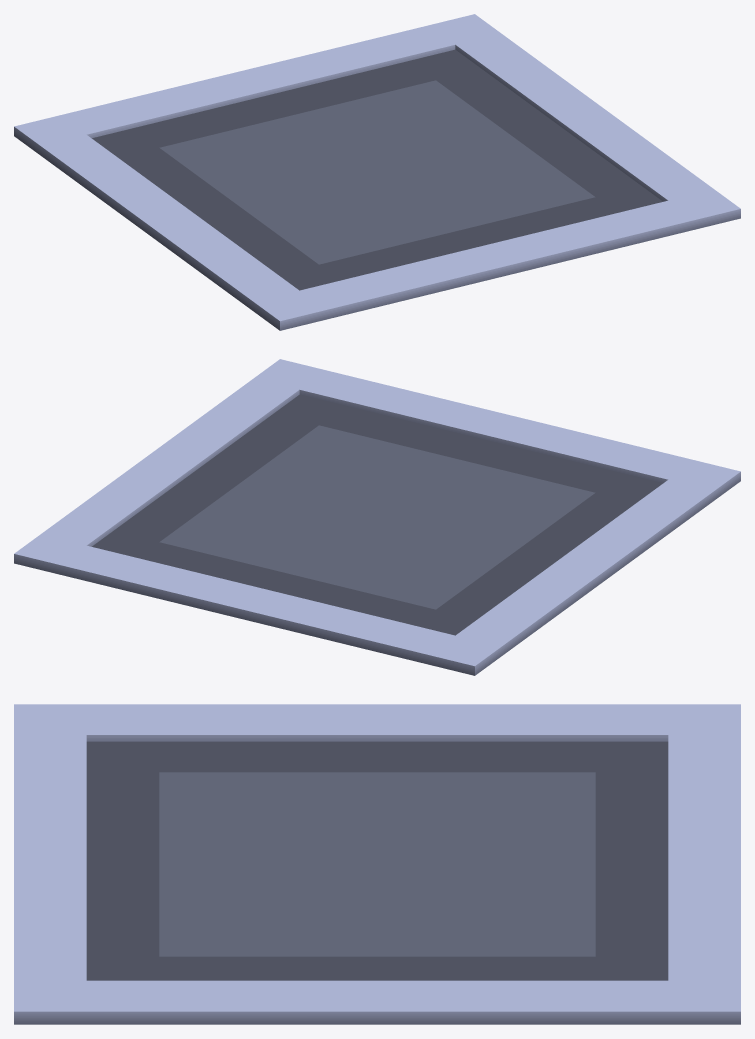
File: roads.road_square.glb
The picture shows the model from 3 angles, top to bottom: view 1: azimuth 30°, elevation 25°; view 2: azimuth 150°, elevation 25°; view 3: azimuth 270°, elevation 25°; orthographic projection. The views are drawn at different scales.
Visible parts, largest first — view 1: road-square; view 2: road-square; view 3: road-square.
Part boxes in pixels (bbox=[...]): road-square: bbox=[14, 14, 740, 330]; road-square: bbox=[14, 359, 740, 675]; road-square: bbox=[14, 704, 740, 1024].
Size of the model in its own units: 7.45 by 0.1491 by 7.45.
Materials: 1 (1 with a texture image).
